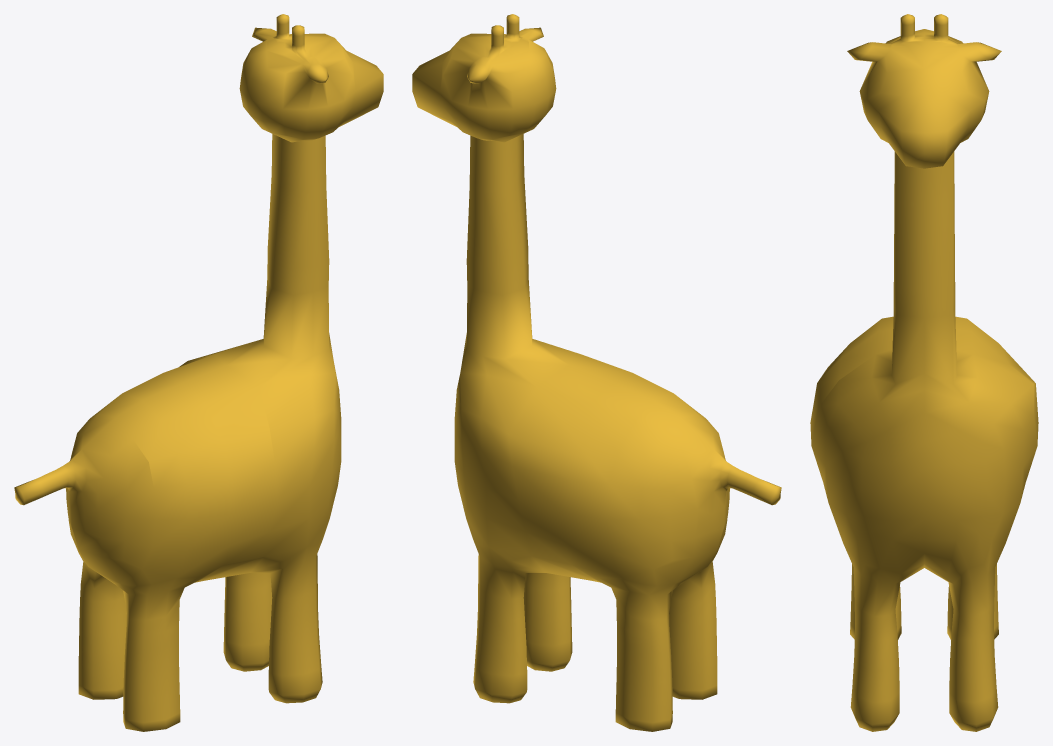
Rendered from giraffe.fbx.
The picture shows the model from 3 angles, left to right: view 1: azimuth 30°, elevation 25°; view 2: azimuth 150°, elevation 25°; view 3: azimuth 270°, elevation 25°; orthographic projection. The views are drawn at different scales.
Parts seen in each view (by area): view 1: Roundcube; view 2: Roundcube; view 3: Roundcube.
Boxes of the visible parts, x1,y1,x2,y2 form: Roundcube: (14,14,383,731); Roundcube: (412,14,781,731); Roundcube: (810,14,1038,731).
Bounding box in the file's own units: 198 × 347 × 99.88.
